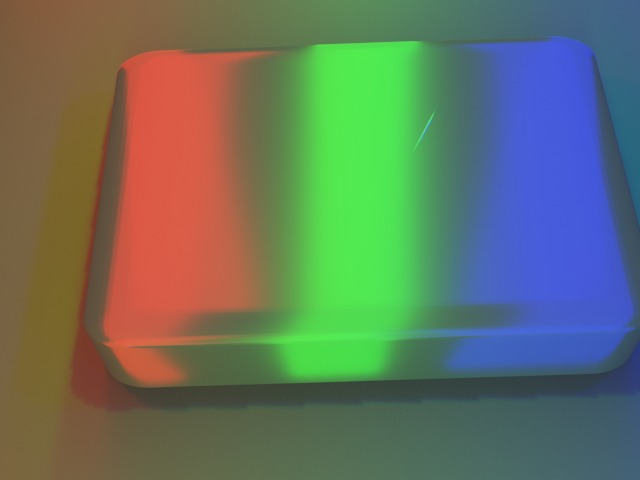scratch: (318, 53, 558, 183)
